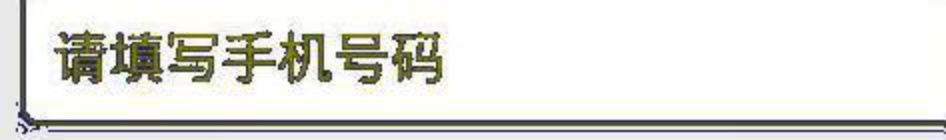EditText: (1, 1, 945, 139)
